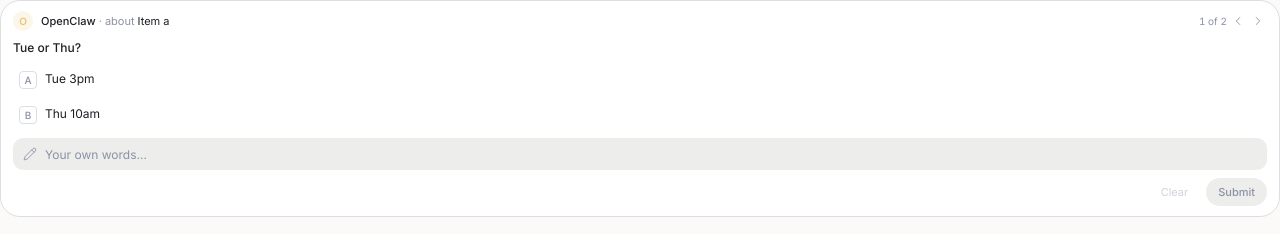
Test: AskerCard › pages an asker with two questions, picks by letter and submits with Undo
Expected: the text with test id "asker-card-page" reads "1 of 2", [1199, 14, 1227, 28]
Expected: the text "Tue or Thu?" is shown, [13, 40, 81, 55]
Press b in the button with test id "asker-card-option" showing "A Tue 3pm", box [13, 64, 1267, 95]
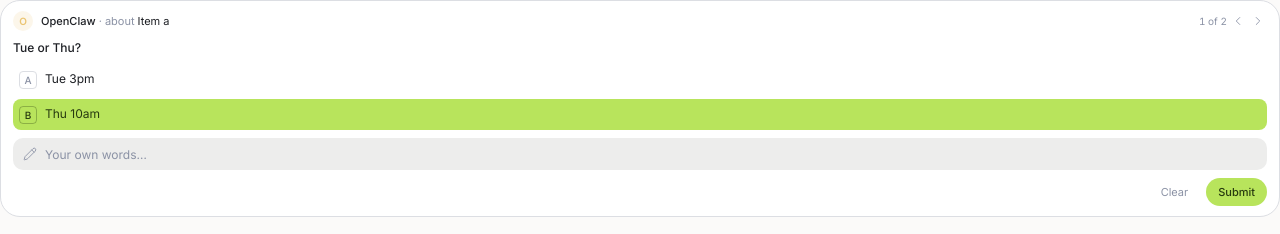
Now the button with test id "asker-card-option" is pressed, box [13, 99, 1267, 130]
Click the button with test id "asker-card-clear" at (1174, 192), box [1149, 178, 1200, 206]
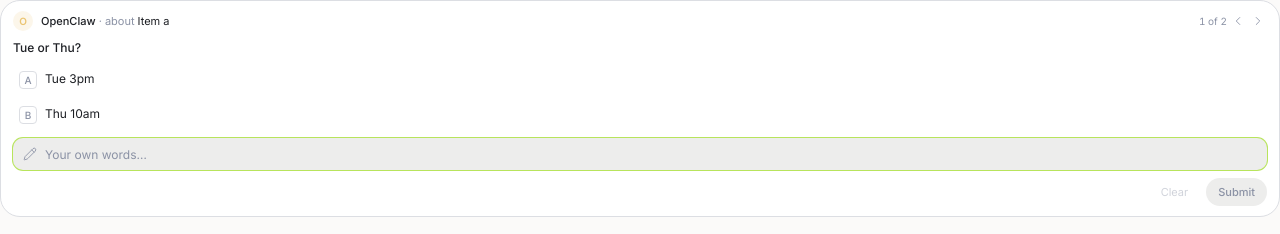
Now the button with test id "asker-card-option" is not pressed
Click the button with test id "asker-card-option" showing "B Thu 10am" at (73, 114), box [13, 99, 1267, 130]
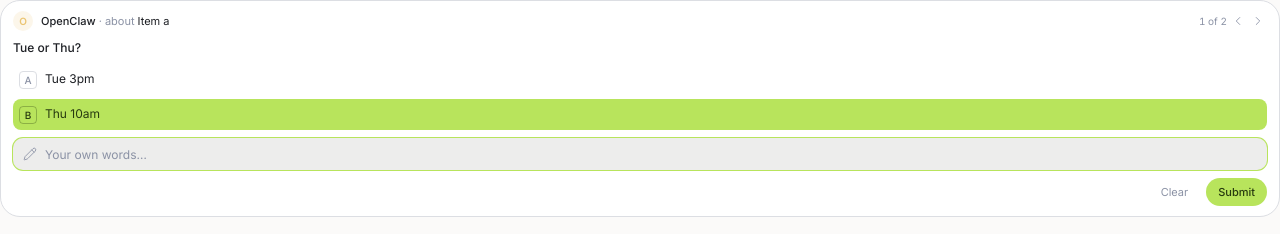
Click the button with test id "asker-card-submit" at (1237, 192), box [1206, 178, 1267, 206]
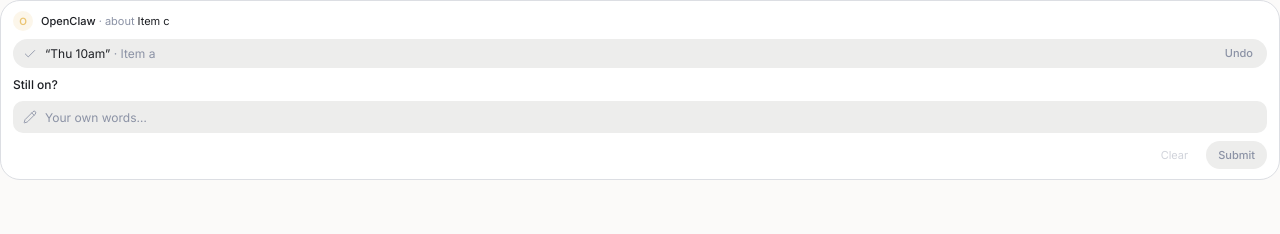
Now the element with test id "asker-card-answered" shows "“Thu 10am”", box [13, 39, 1267, 68]
Now the text with test id "asker-card-page" is gone
Now the text "Still on?" is shown, box [13, 77, 58, 92]
Click the button with test id "asker-card-undo" at (1239, 54), box [1221, 46, 1257, 61]
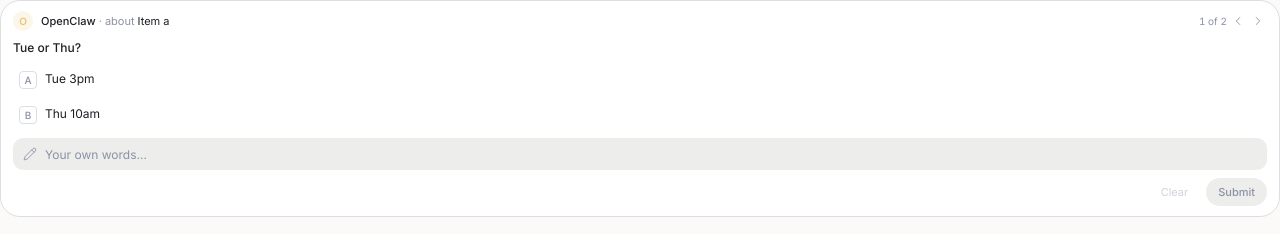
Now the text "Tue or Thu?" is shown, box [13, 40, 81, 55]
